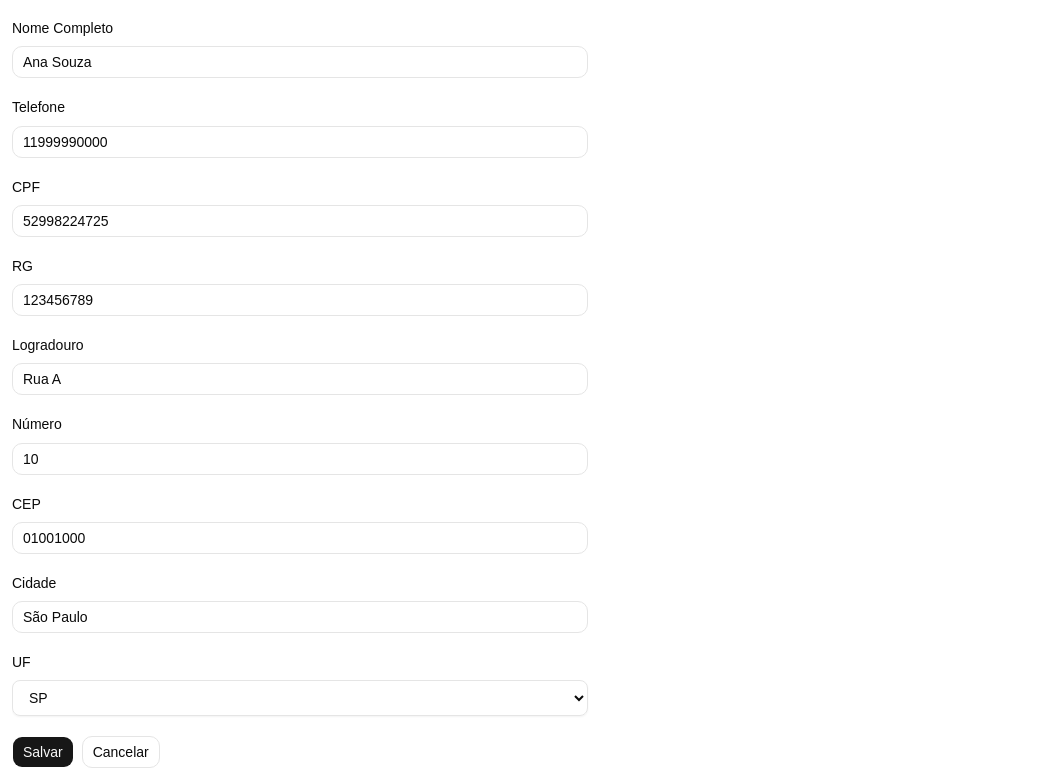
Test: telas de clientes › formulário › na edição, carrega os dados e envia PUT
This screenshot has width=1048, height=768.
(page scrolled)
Check: the field showing "Ana Souza" is shown, box [12,46,588,78]
Click the button "Salvar": (43, 752) [12,736,74,767]
(page scrolled)
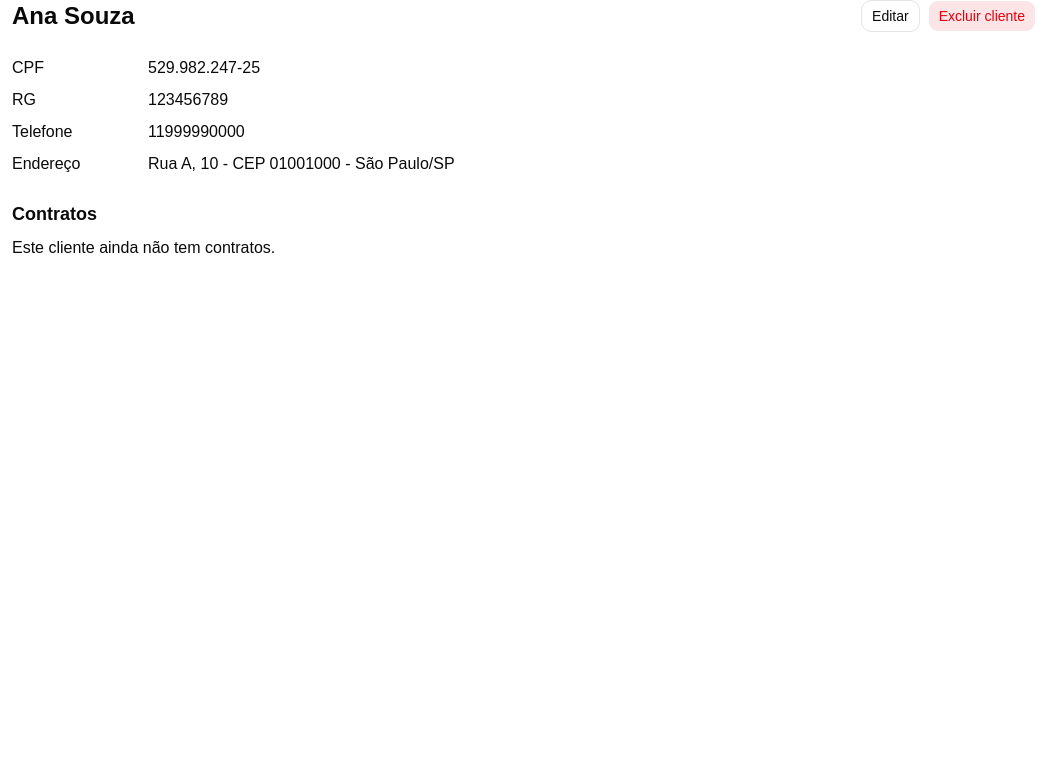
Check: the heading "Ana Souza" is shown, box [12,0,135,32]
